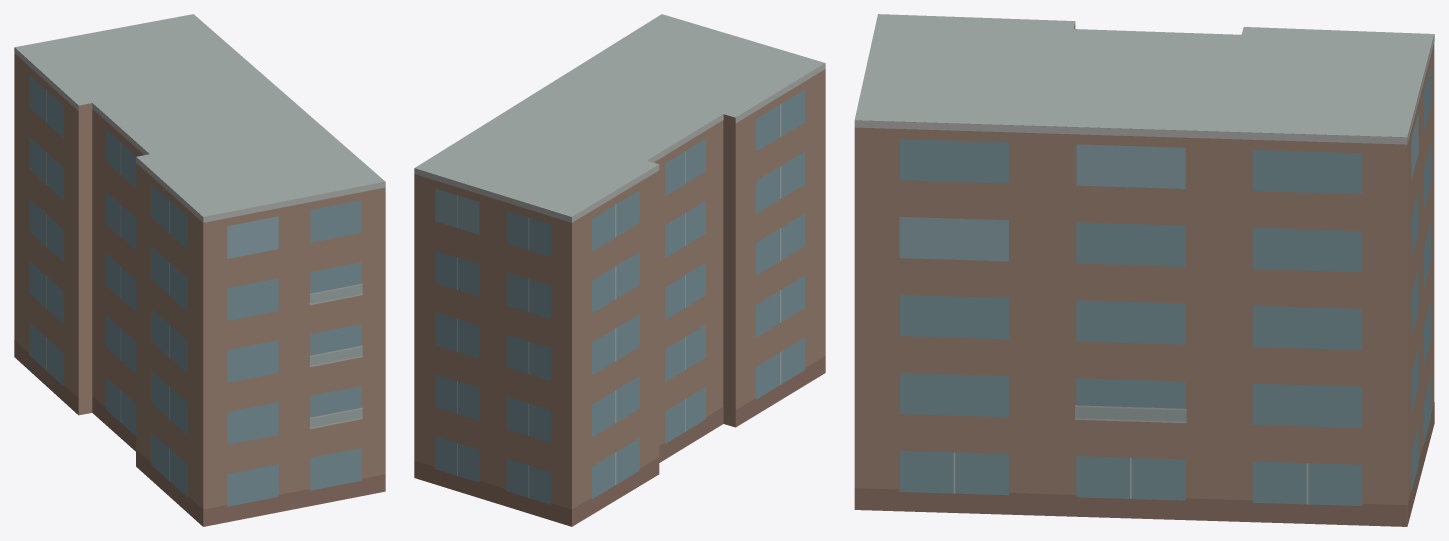
The model's file is survey-upis-32728129.glb.
3 views of the same model, side by side, from view 1: azimuth 30°, elevation 25°; view 2: azimuth 150°, elevation 25°; view 3: azimuth 270°, elevation 25° (orthographic). The views are drawn at different scales.
Visible parts, largest first — view 1: survey-upis-32728129.tmp; view 2: survey-upis-32728129.tmp; view 3: survey-upis-32728129.tmp.
Part boxes in pixels (x1,y1,x2,y2): survey-upis-32728129.tmp: (14, 14, 385, 526); survey-upis-32728129.tmp: (414, 14, 825, 526); survey-upis-32728129.tmp: (854, 14, 1434, 526).
Bounding box in the file's own units: 8.83 × 13 × 17.55.
